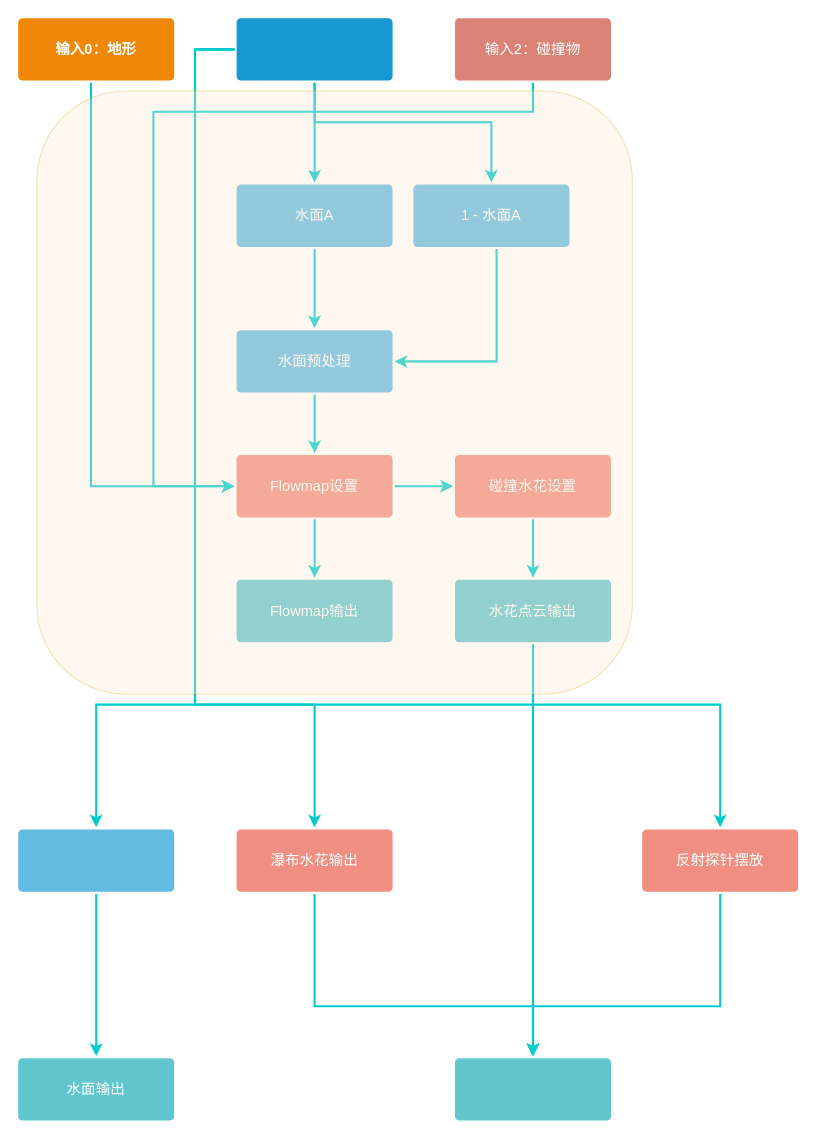
Image size: 815x1138. Some labels were removed from this diagram. Each missing label, with the centre of its shape:
循环处理: (334,392)
水面设置: (96,860)
点云输出: (532,1089)
输入1：水面: (314,49)
